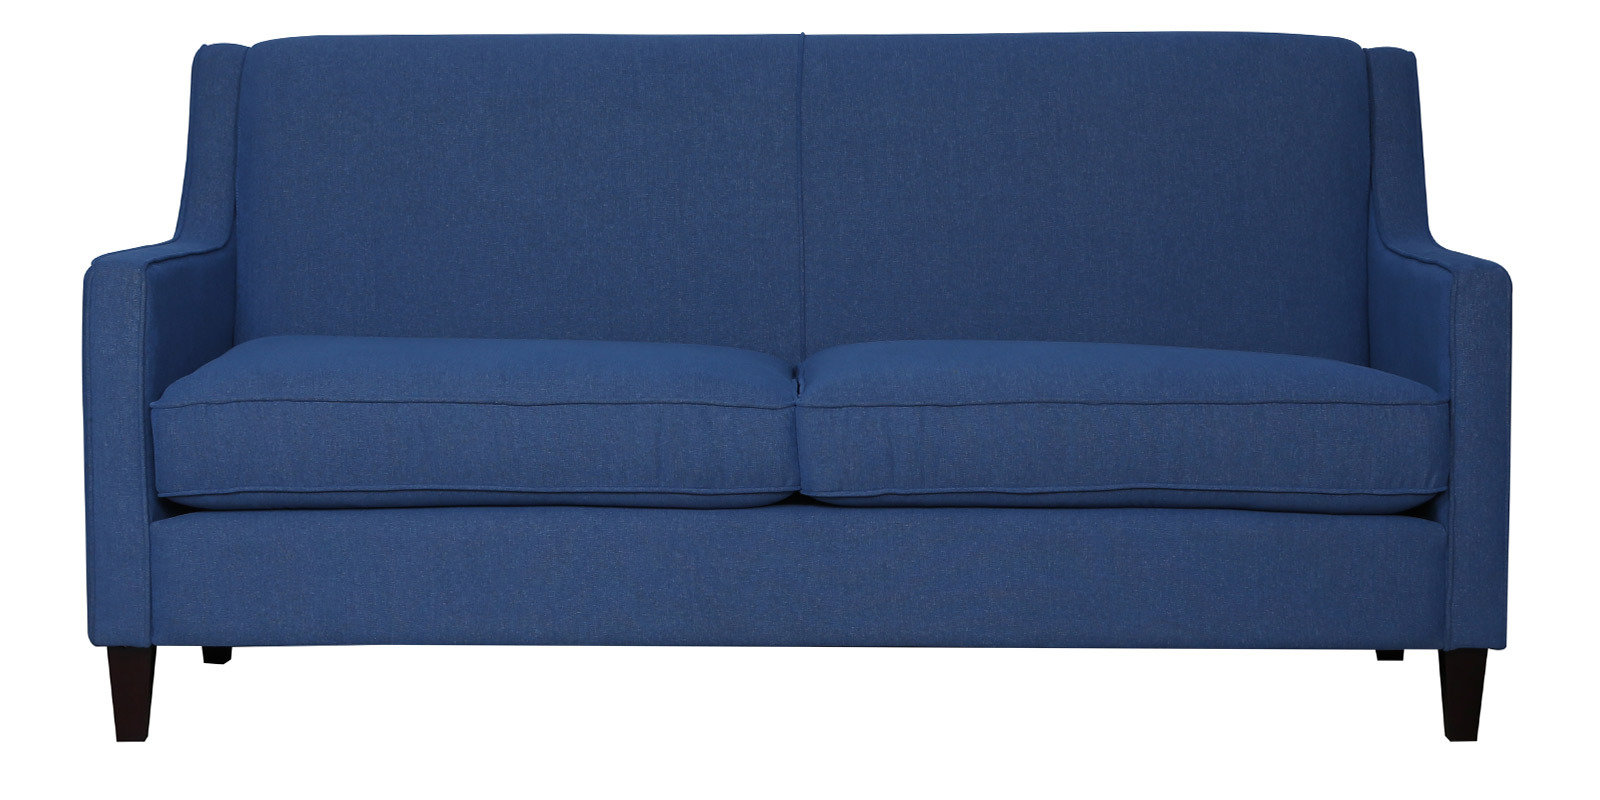Oscar Three Seater Sofa in Denim Blue Colour by CasaCraft: (80, 34, 1511, 742)
